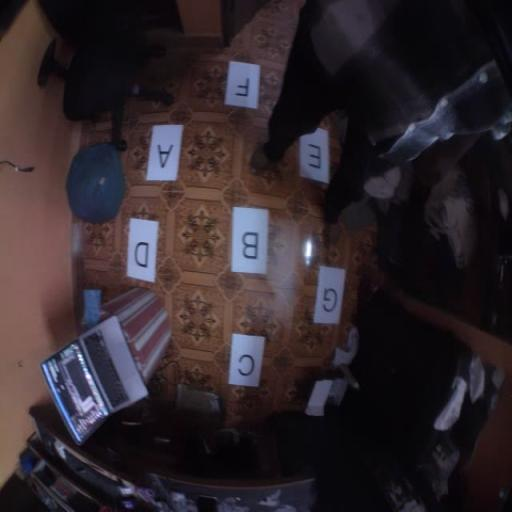A: (146, 125, 184, 180)
B: (231, 206, 270, 274)
C: (228, 333, 266, 387)
D: (126, 218, 158, 282)
E: (300, 128, 330, 185)
F: (224, 61, 261, 110)
G: (313, 266, 346, 324)
